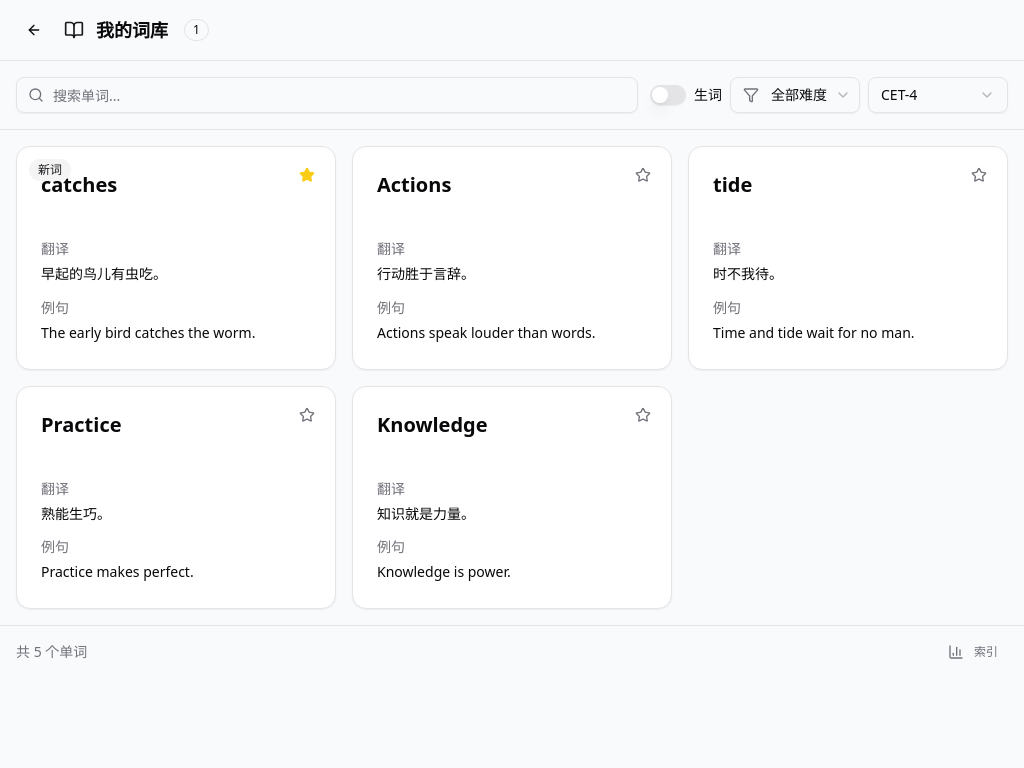
Test: DictionaryBrowser › Indexed search path (searchByQuery) › applies marked filter after indexed search
Expected: the text "catches" is shown, [41, 171, 117, 198]
Type "hello" into the field with placeholder "搜索单词..." at point(327, 95), box [16, 77, 638, 113]
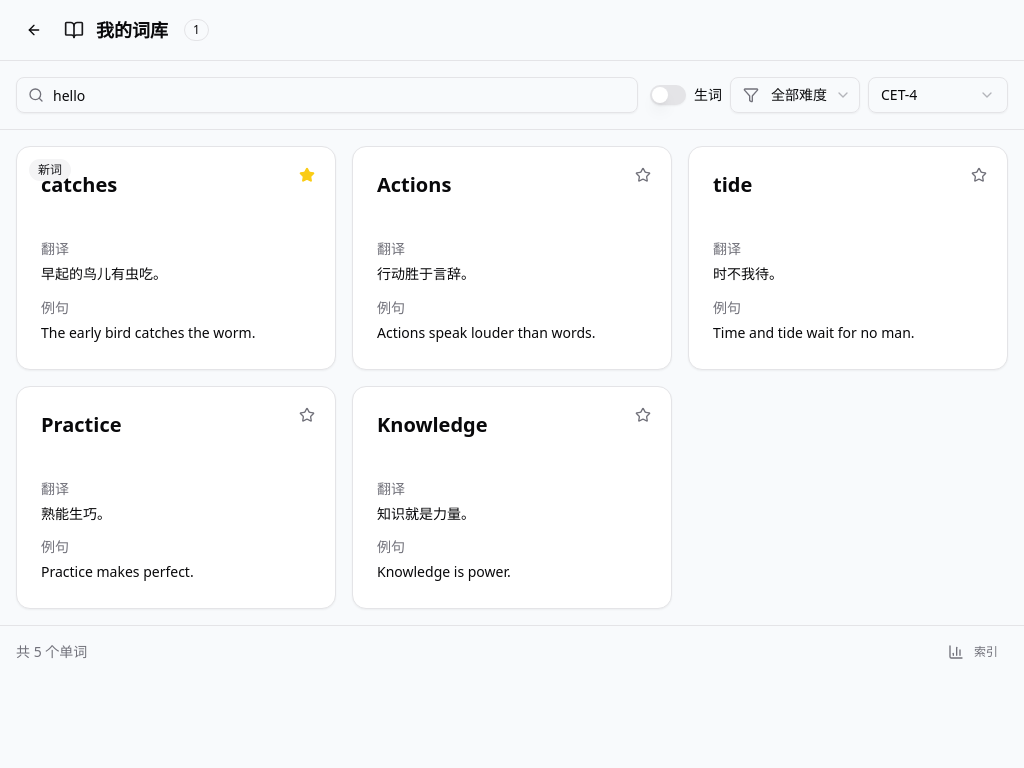
Enable marked filter
Click the switch at point(668, 95), box [650, 85, 686, 105]
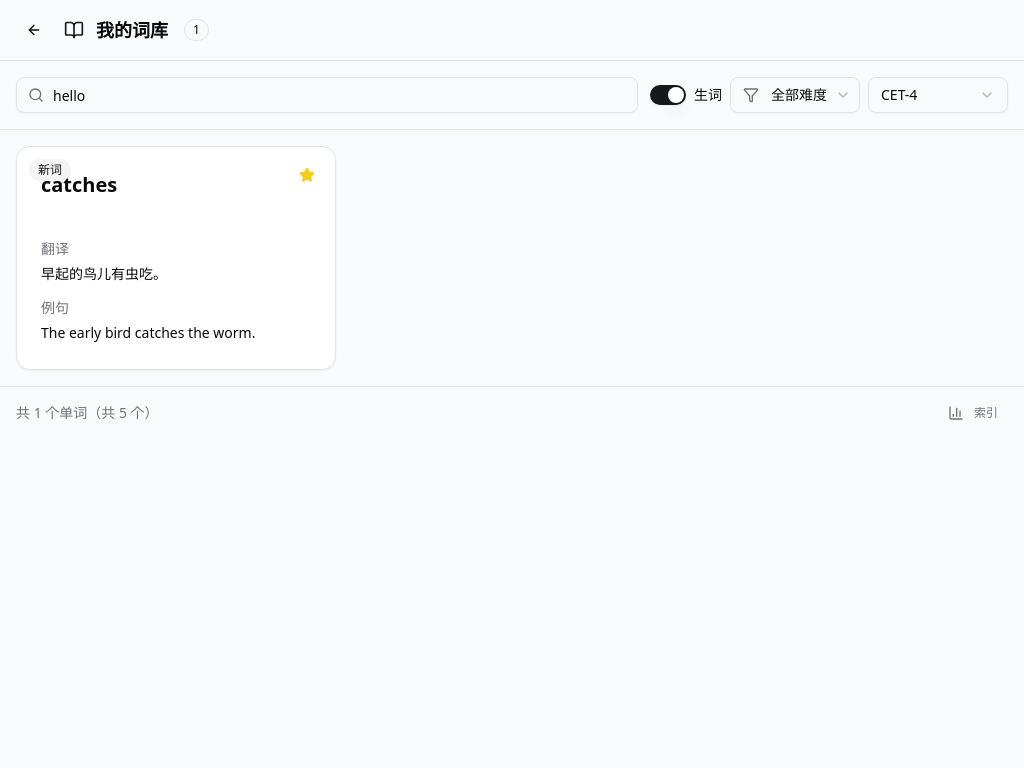
Expected: the text "catches" is shown, [41, 171, 117, 198]
Expected: the text "Actions" is gone
